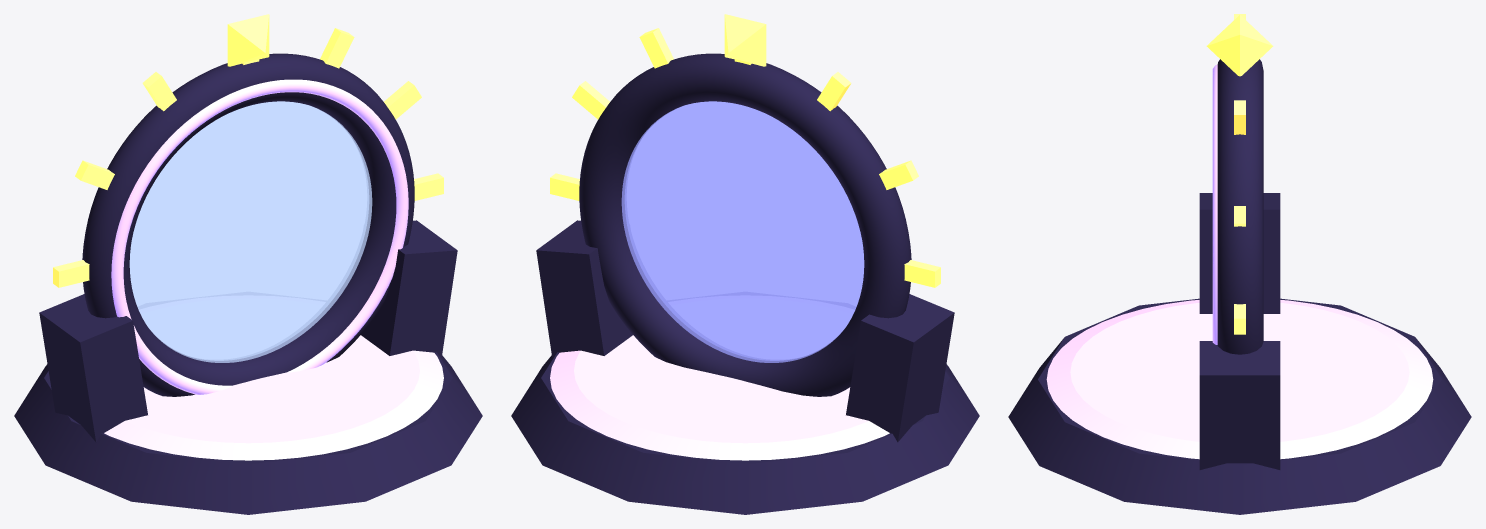
File: departure-portal.glb
The picture shows the model from 3 angles, left to right: view 1: azimuth 30°, elevation 25°; view 2: azimuth 150°, elevation 25°; view 3: azimuth 270°, elevation 25°; orthographic projection.
Parts seen in each view (by area): view 1: PortalEnergySurface, PortalEnergyBack, PortalFrame, PortalBase, PortalBaseInlay, PortalButtressLeft, PortalFrameEdge, PortalButtressRight, PortalCrown, PortalGlyph02, PortalGlyph10, PortalGlyph03 (+3 smaller); view 2: PortalEnergyBack, PortalEnergySurface, PortalFrame, PortalBase, PortalBaseInlay, PortalButtressLeft, PortalButtressRight, PortalCrown, PortalGlyph02, PortalGlyph10, PortalGlyph03, PortalGlyph12 (+2 smaller); view 3: PortalBaseInlay, PortalBase, PortalFrame, PortalButtressRight, PortalButtressLeft, PortalCrown, PortalFrameEdge.
Part boxes in pixels (<box>): PortalEnergySurface: <box>129,101,372,362</box>; PortalEnergyBack: <box>130,102,368,360</box>; PortalFrame: <box>82,53,414,396</box>; PortalBase: <box>14,352,482,514</box>; PortalBaseInlay: <box>104,335,443,460</box>; PortalButtressLeft: <box>39,294,147,442</box>; PortalFrameEdge: <box>111,79,408,394</box>; PortalButtressRight: <box>361,220,457,357</box>; PortalCrown: <box>227,14,269,66</box>; PortalGlyph02: <box>320,28,354,68</box>; PortalGlyph10: <box>53,260,89,287</box>; PortalGlyph03: <box>384,81,421,119</box>; PortalEnergyBack: <box>621,101,864,362</box>; PortalEnergySurface: <box>625,102,863,360</box>; PortalFrame: <box>579,53,911,396</box>; PortalBase: <box>511,352,979,514</box>; PortalBaseInlay: <box>550,335,889,460</box>; PortalButtressLeft: <box>846,294,954,442</box>; PortalButtressRight: <box>536,220,632,357</box>; PortalCrown: <box>724,14,766,66</box>; PortalGlyph02: <box>639,28,673,68</box>; PortalGlyph10: <box>904,260,940,287</box>; PortalGlyph03: <box>572,81,609,119</box>; PortalGlyph12: <box>817,72,851,111</box>; PortalBaseInlay: <box>1046,300,1433,459</box>; PortalBase: <box>1008,298,1471,514</box>; PortalFrame: <box>1217,59,1263,354</box>; PortalButtressRight: <box>1199,341,1280,469</box>; PortalButtressLeft: <box>1199,193,1280,313</box>; PortalCrown: <box>1206,15,1273,76</box>; PortalFrameEdge: <box>1212,64,1217,344</box>.
Size of the model in its own units: 4.7 by 4.57 by 4.7.
